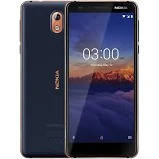nokia: (19, 1, 65, 157)
